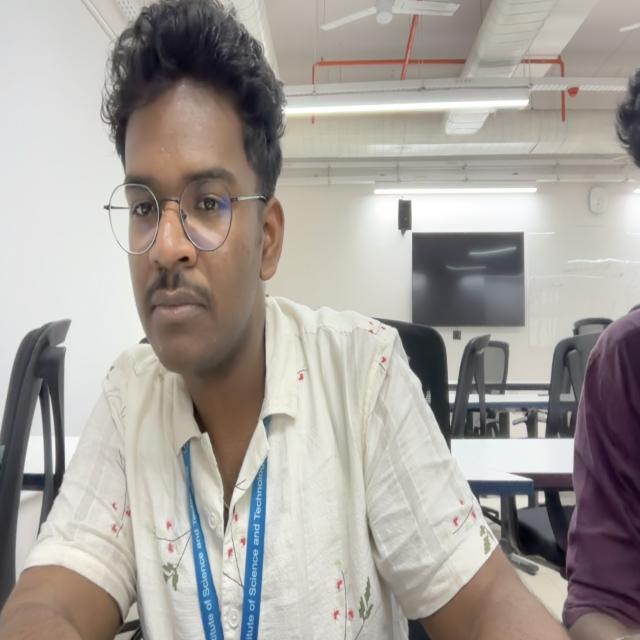sai: (95, 0, 285, 369)
